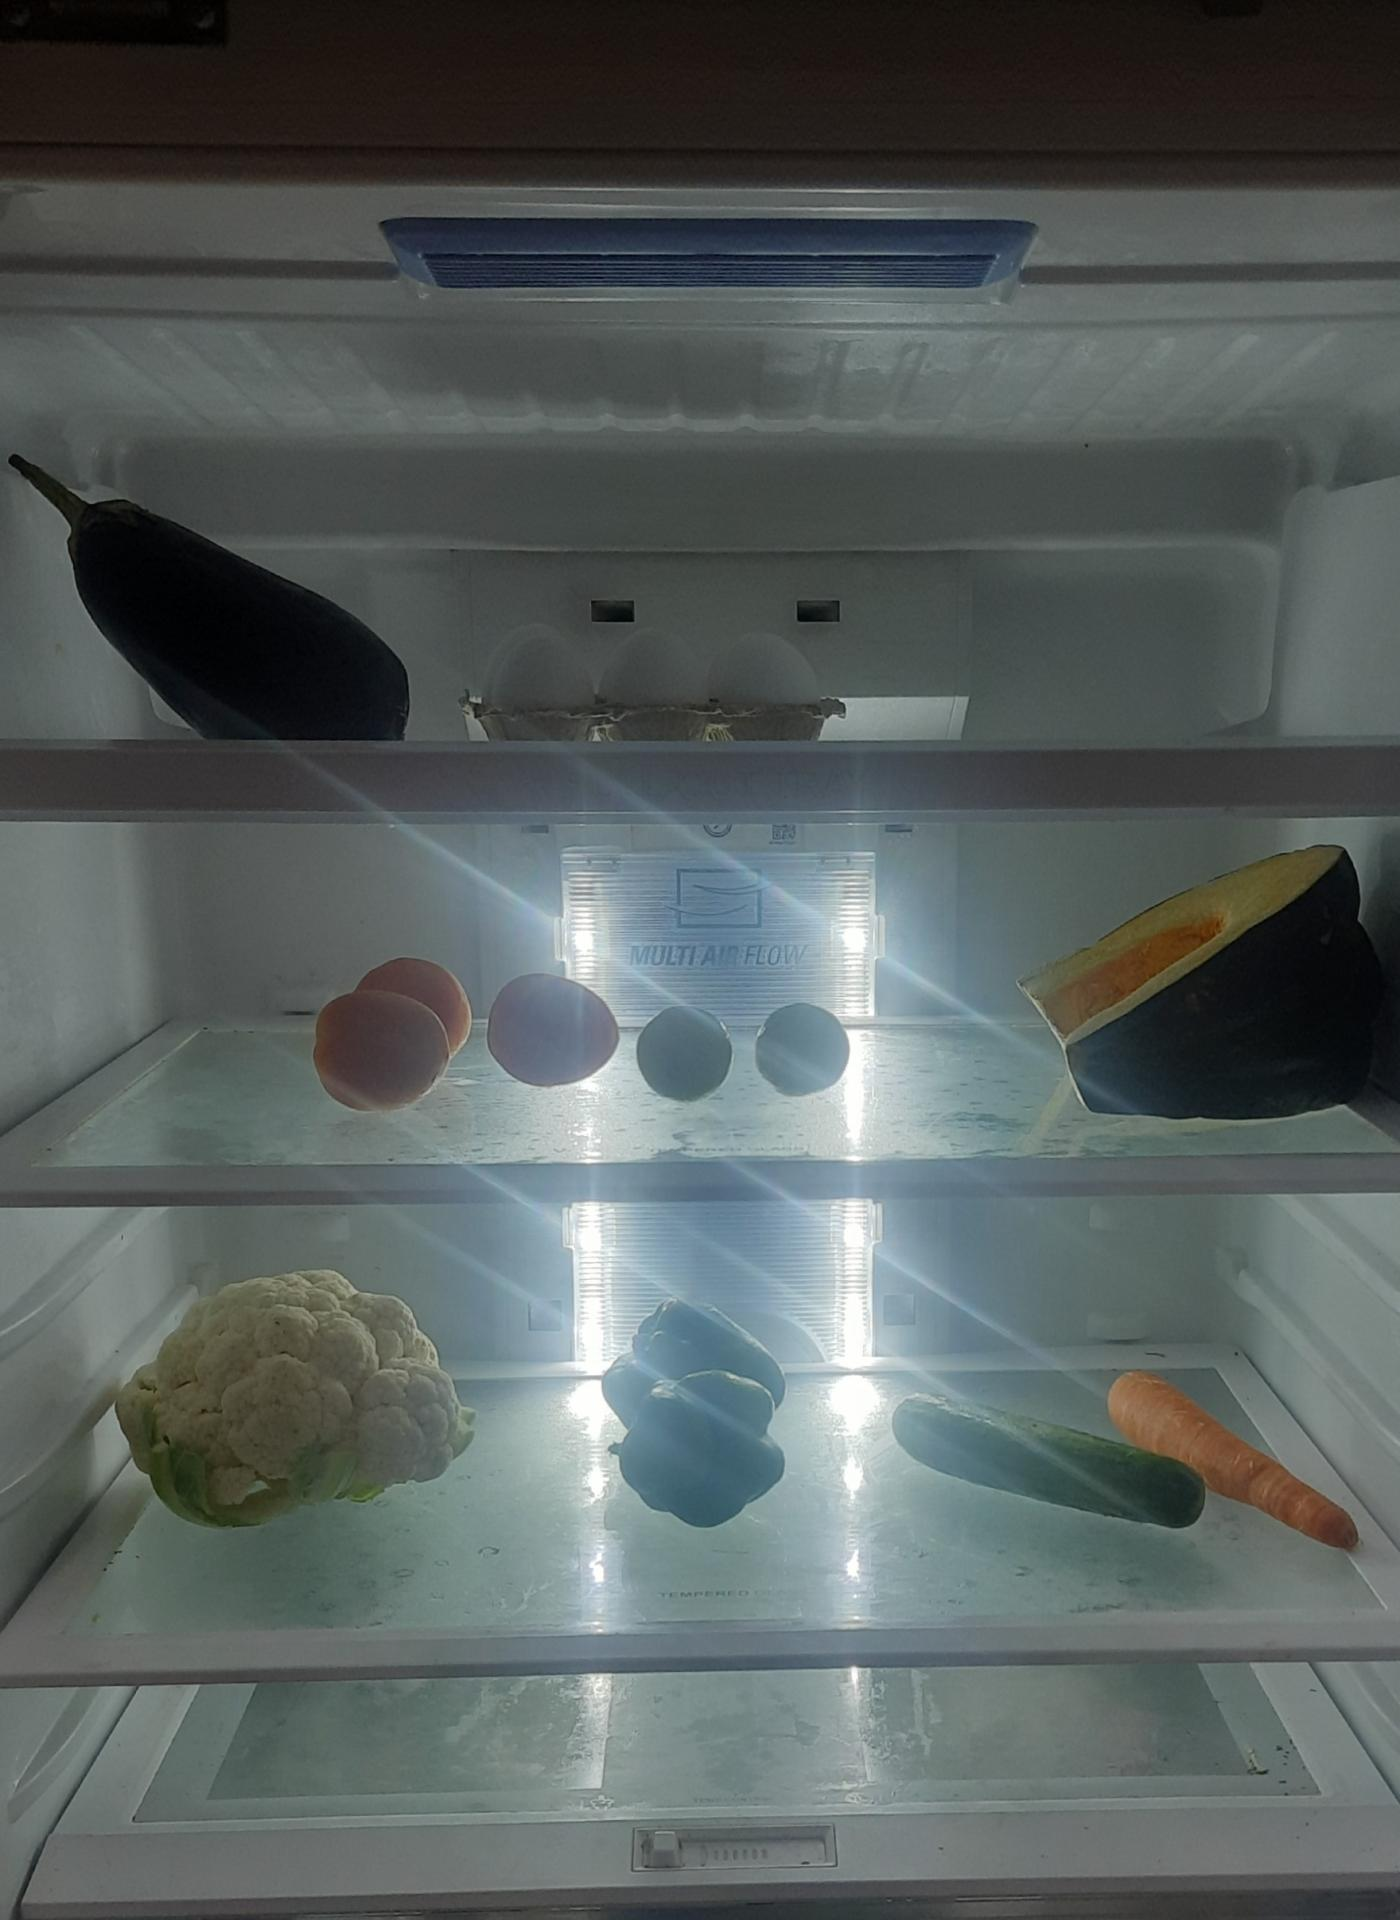brinjal: (0, 437, 426, 750)
capsicum: (601, 1289, 796, 1525)
carrots: (1108, 1374, 1363, 1561)
cauliflower: (124, 1276, 477, 1532)
cucumber: (884, 1373, 1211, 1544)
egg: (473, 611, 833, 736)
lemon: (631, 996, 737, 1108), (753, 1006, 854, 1102)
pumpkin: (1027, 847, 1399, 1128)
tomato: (310, 960, 471, 1115), (477, 960, 629, 1091)
